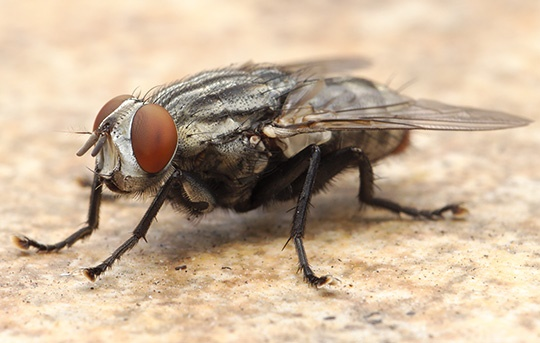house fly: (12, 50, 535, 304)
